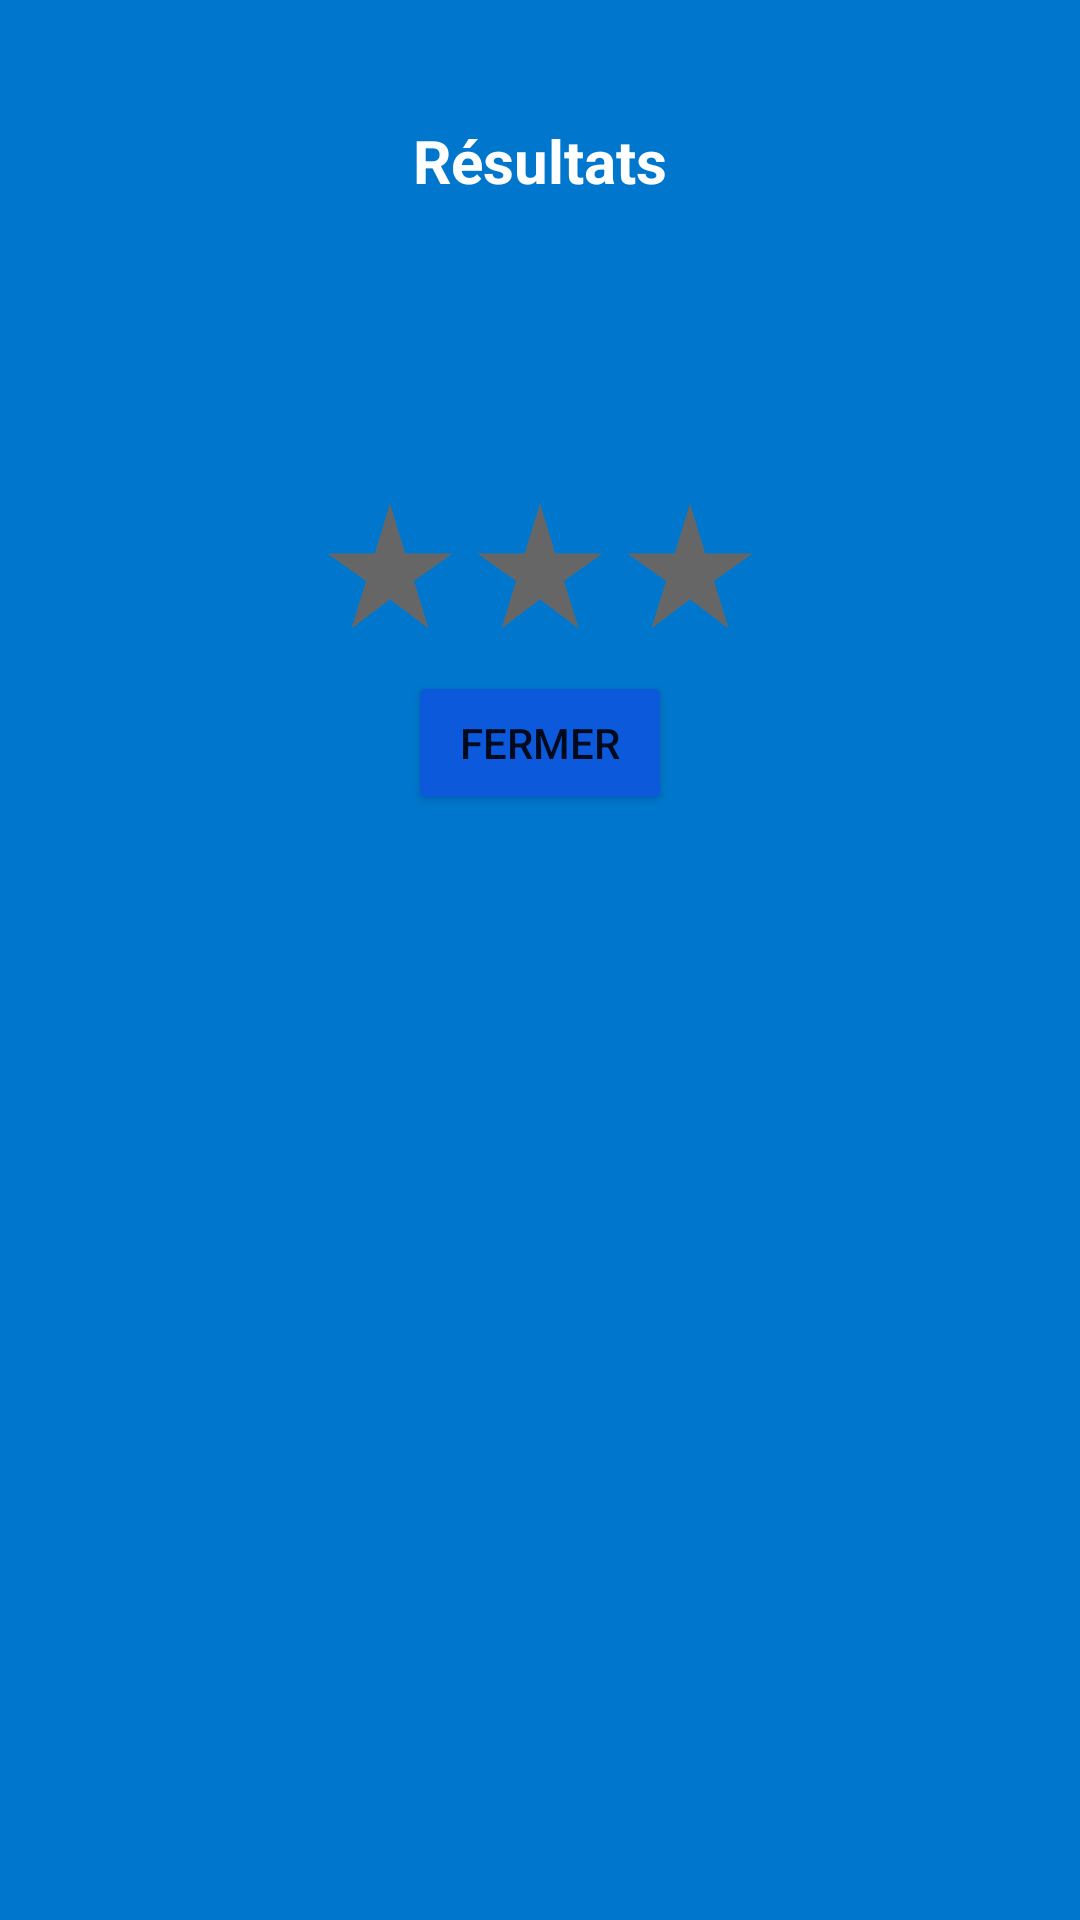

Icons on this 1080 × 1920 Android screen, each with its box as [x1, y1, x2, y2]:
star rate: [328, 504, 452, 628], [478, 504, 602, 628], [628, 504, 752, 628]
